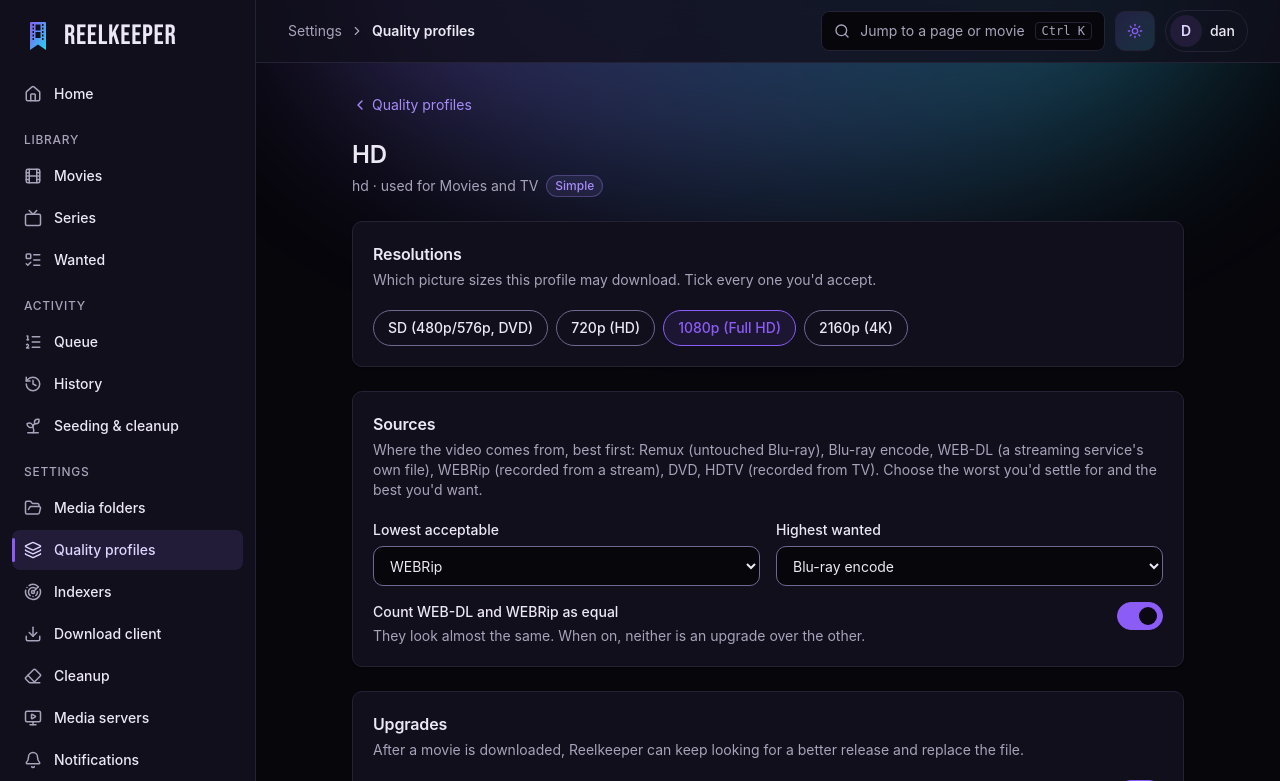
it: profile settings page › shows a validation error next to the setting
Click the 1st checkbox labelled "1080p (Full HD)": (730, 328) 663,310 -> 796,346
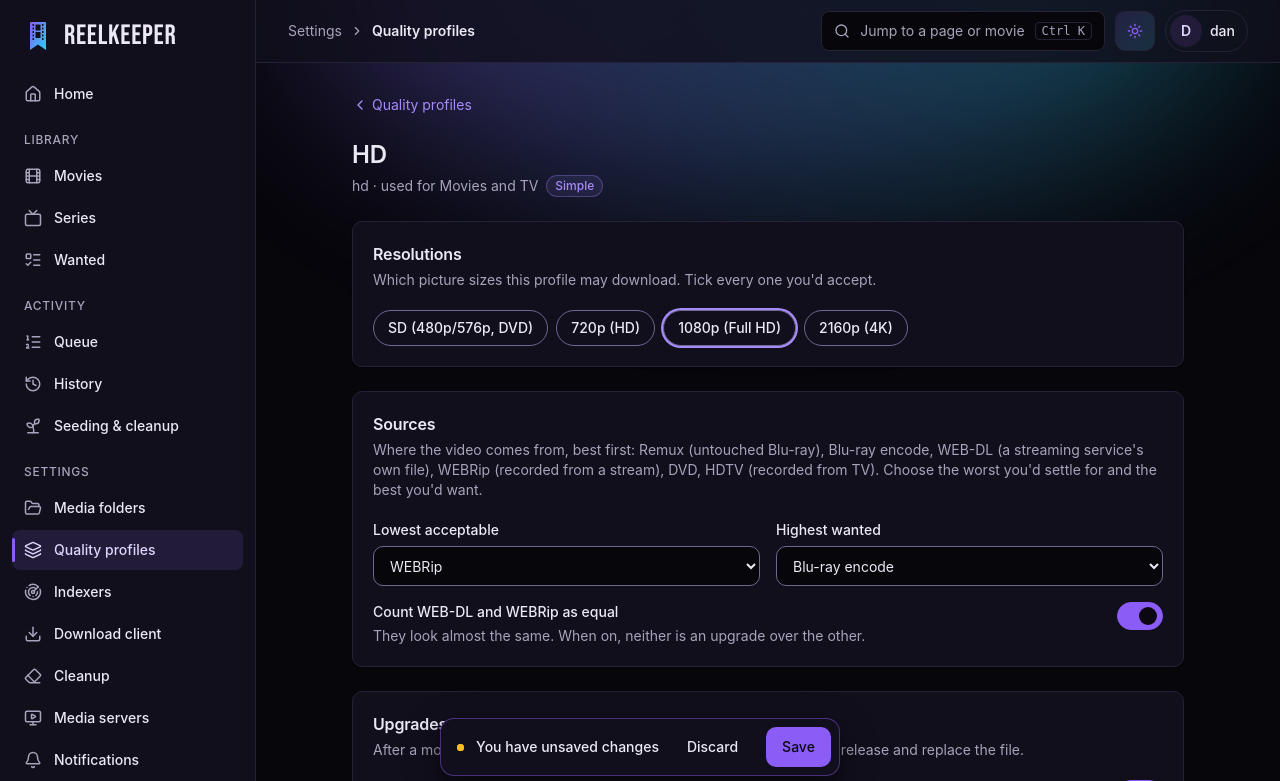
Click the button "Save": (798, 747) 766,727 -> 831,767
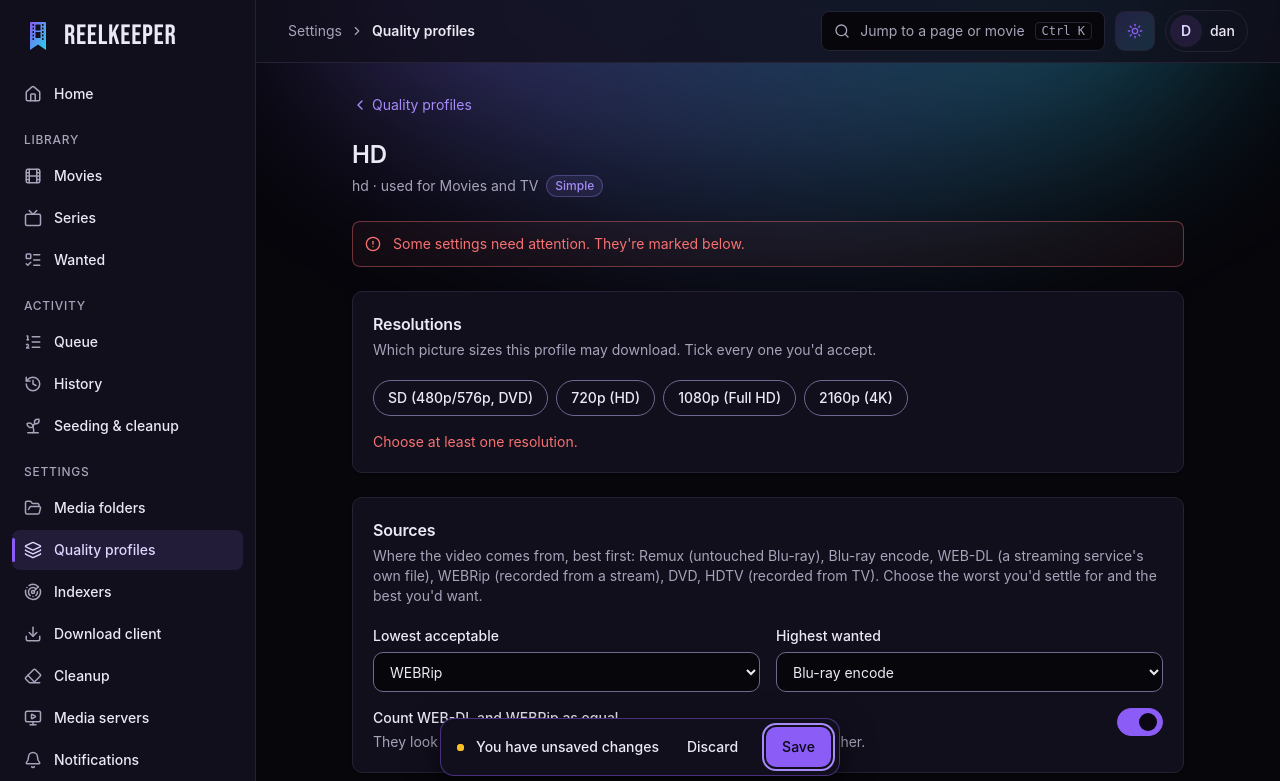
Check: the text "Choose at least one resolution." is shown, box 373,433 -> 578,450
